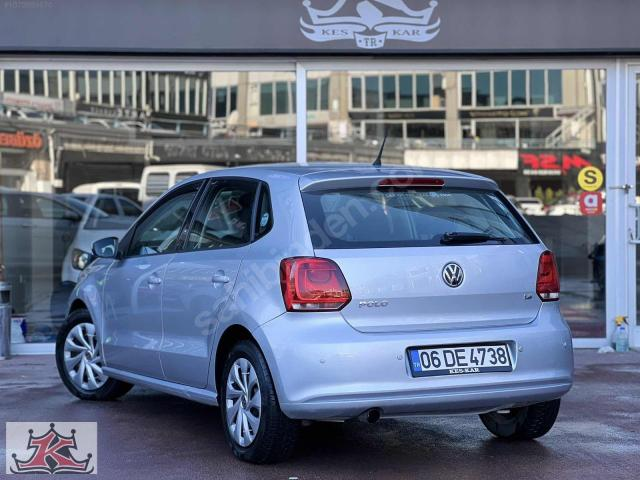plaka: (408, 343, 514, 376)
